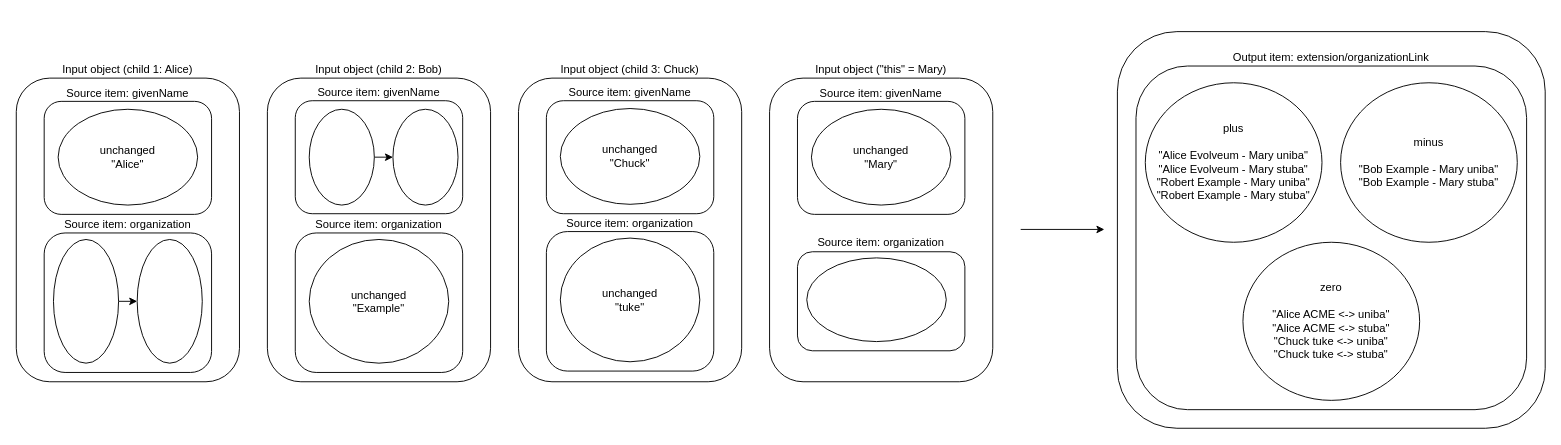
Some shapes in this 1561 by 445 pixel diagram are drawn without their labels. The box of each missing label's shape, as (x1, y1, x2, y2) in pixels:
new "ACME", "Evolveum": (136, 239, 202, 363)
new "Robert": (392, 108, 458, 205)
old "ACME": (53, 239, 119, 363)
old "Bob": (308, 108, 374, 205)
Output object: (1116, 31, 1545, 428)
unchanged "uniba", "stuba": (806, 257, 946, 342)
